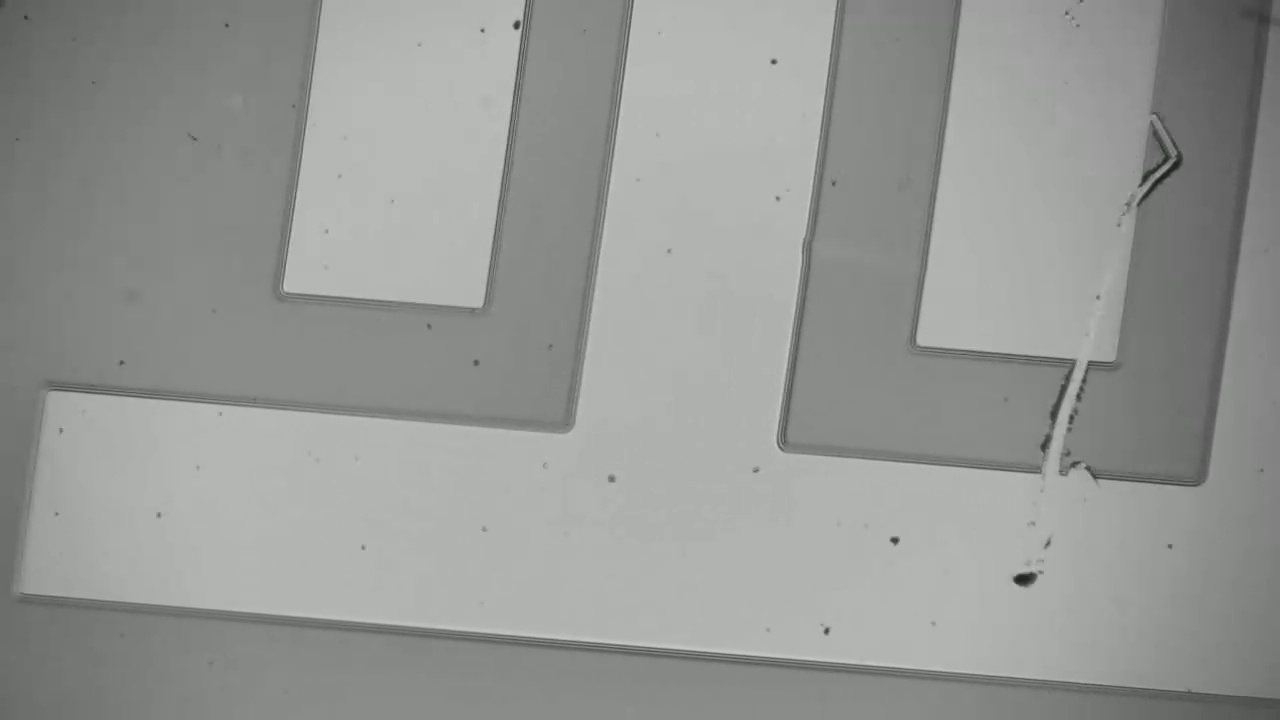Short_circuit: (1011, 346, 1102, 503)
